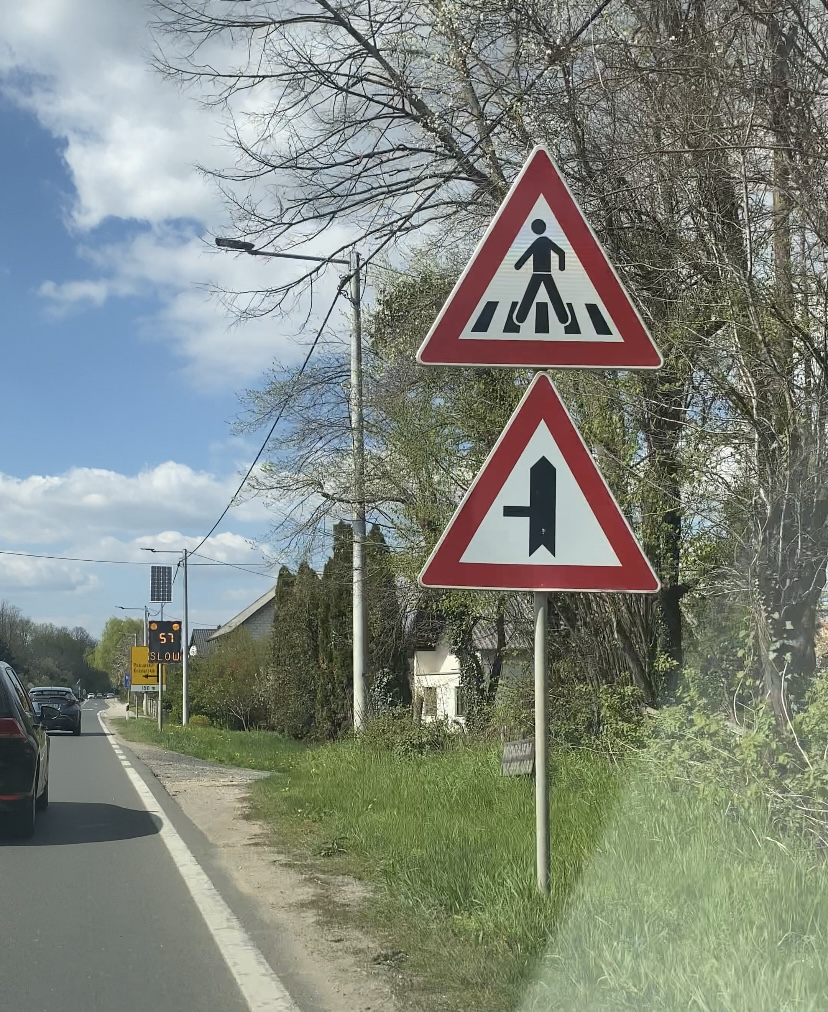Približavanje pješačkom prijelazu: (417, 144, 663, 369)
